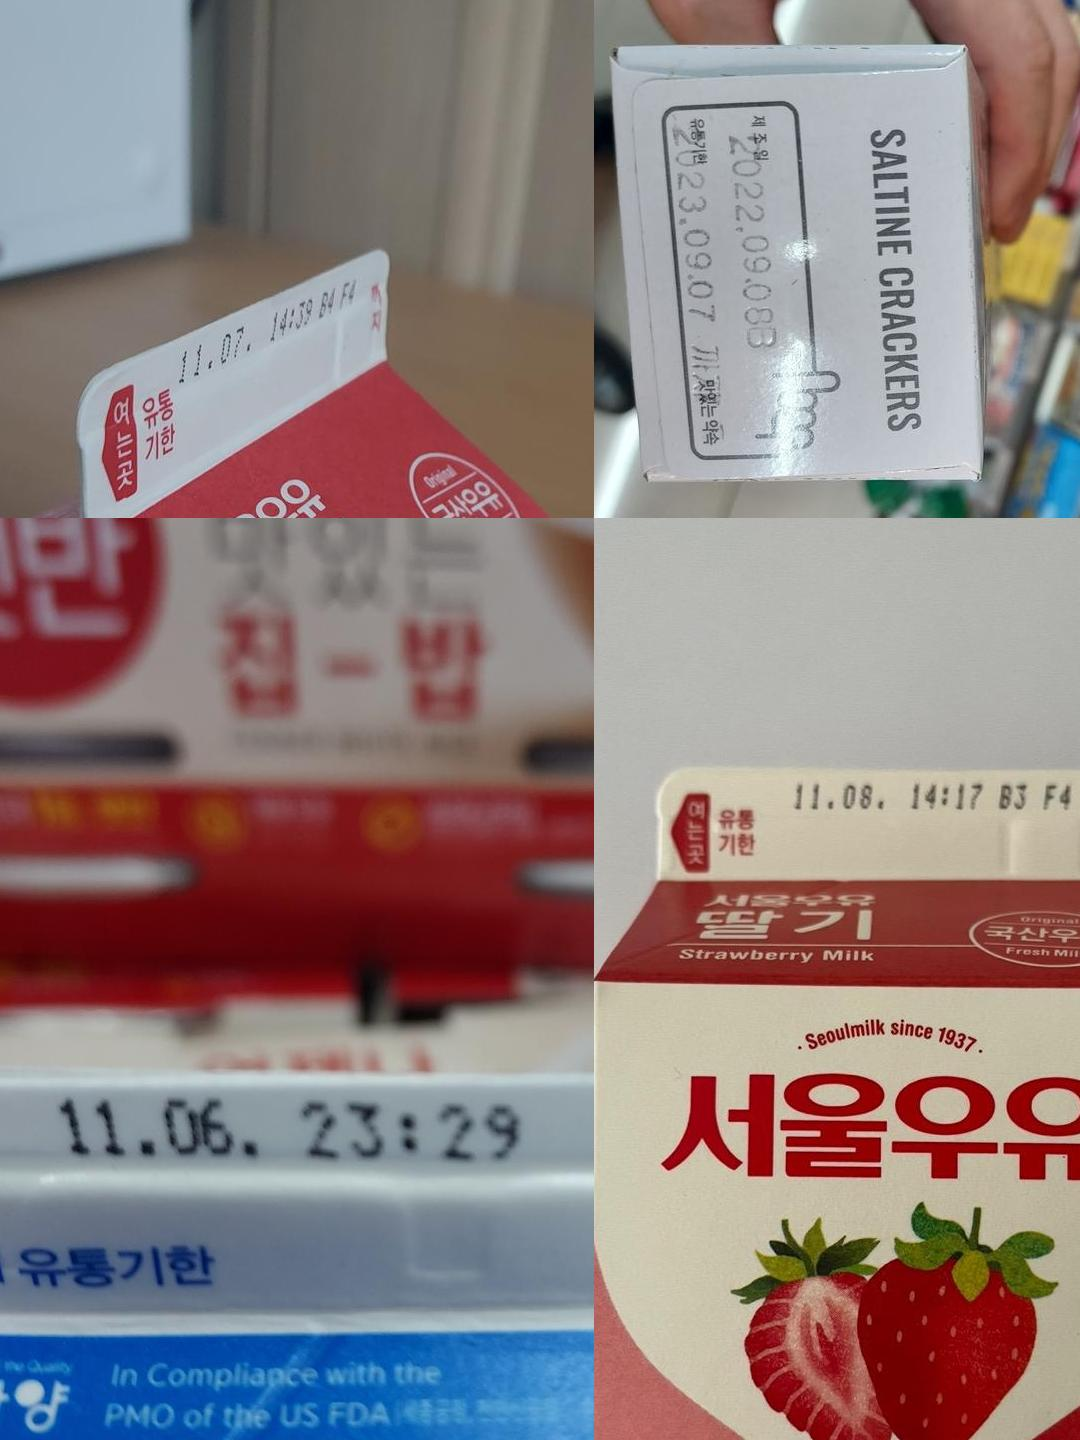milk: (0, 1084, 594, 1323), (77, 245, 386, 518), (653, 762, 1080, 876)
snack food: (664, 116, 811, 454)
